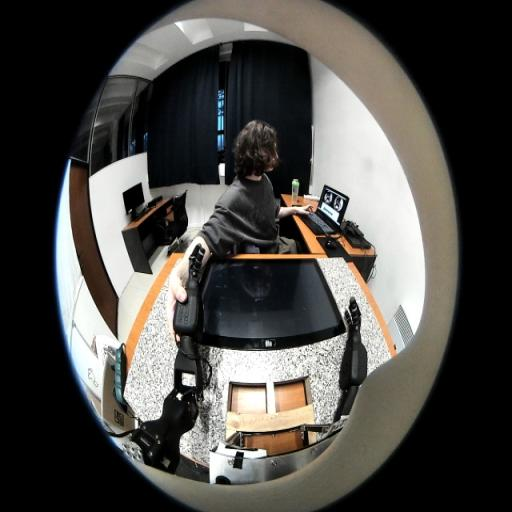LeftHand: (188, 260, 198, 280)
RightHand: (349, 320, 361, 336)
